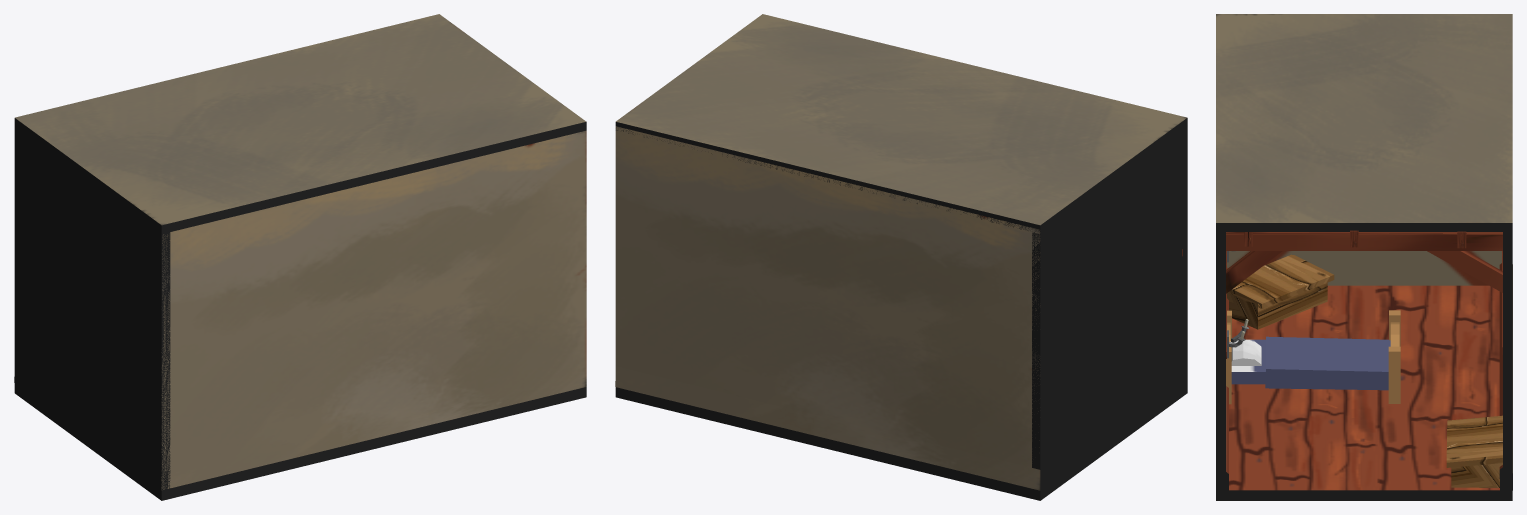
The model's file is smallBedroom.gltf.
The picture shows the model from 3 angles, left to right: view 1: azimuth 30°, elevation 25°; view 2: azimuth 150°, elevation 25°; view 3: azimuth 270°, elevation 25°; orthographic projection.
Visible parts, largest first — view 1: Room; view 2: Room; view 3: Room, Bed, Trunk.001, beam3, Trunk, beam5, Beam6.
Boxes of the visible parts, x1,y1,x2,y2 form: Room: (14,14,586,500); Room: (615,14,1187,500); Room: (1216,14,1512,500); Bed: (1226,310,1400,404); Trunk.001: (1227,254,1334,329); beam3: (1226,232,1502,250); Trunk: (1446,415,1502,487); beam5: (1427,251,1502,292); Beam6: (1226,251,1282,293).
Bounding box in the file's own units: 5.01 × 3.1 × 3.
Materials: 6 (6 with a texture image).
